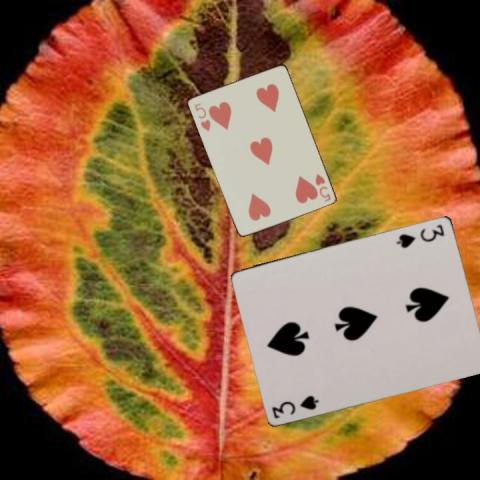3s: (394, 222, 446, 250), (269, 392, 321, 419)
5h: (191, 100, 212, 133), (312, 170, 332, 202)
